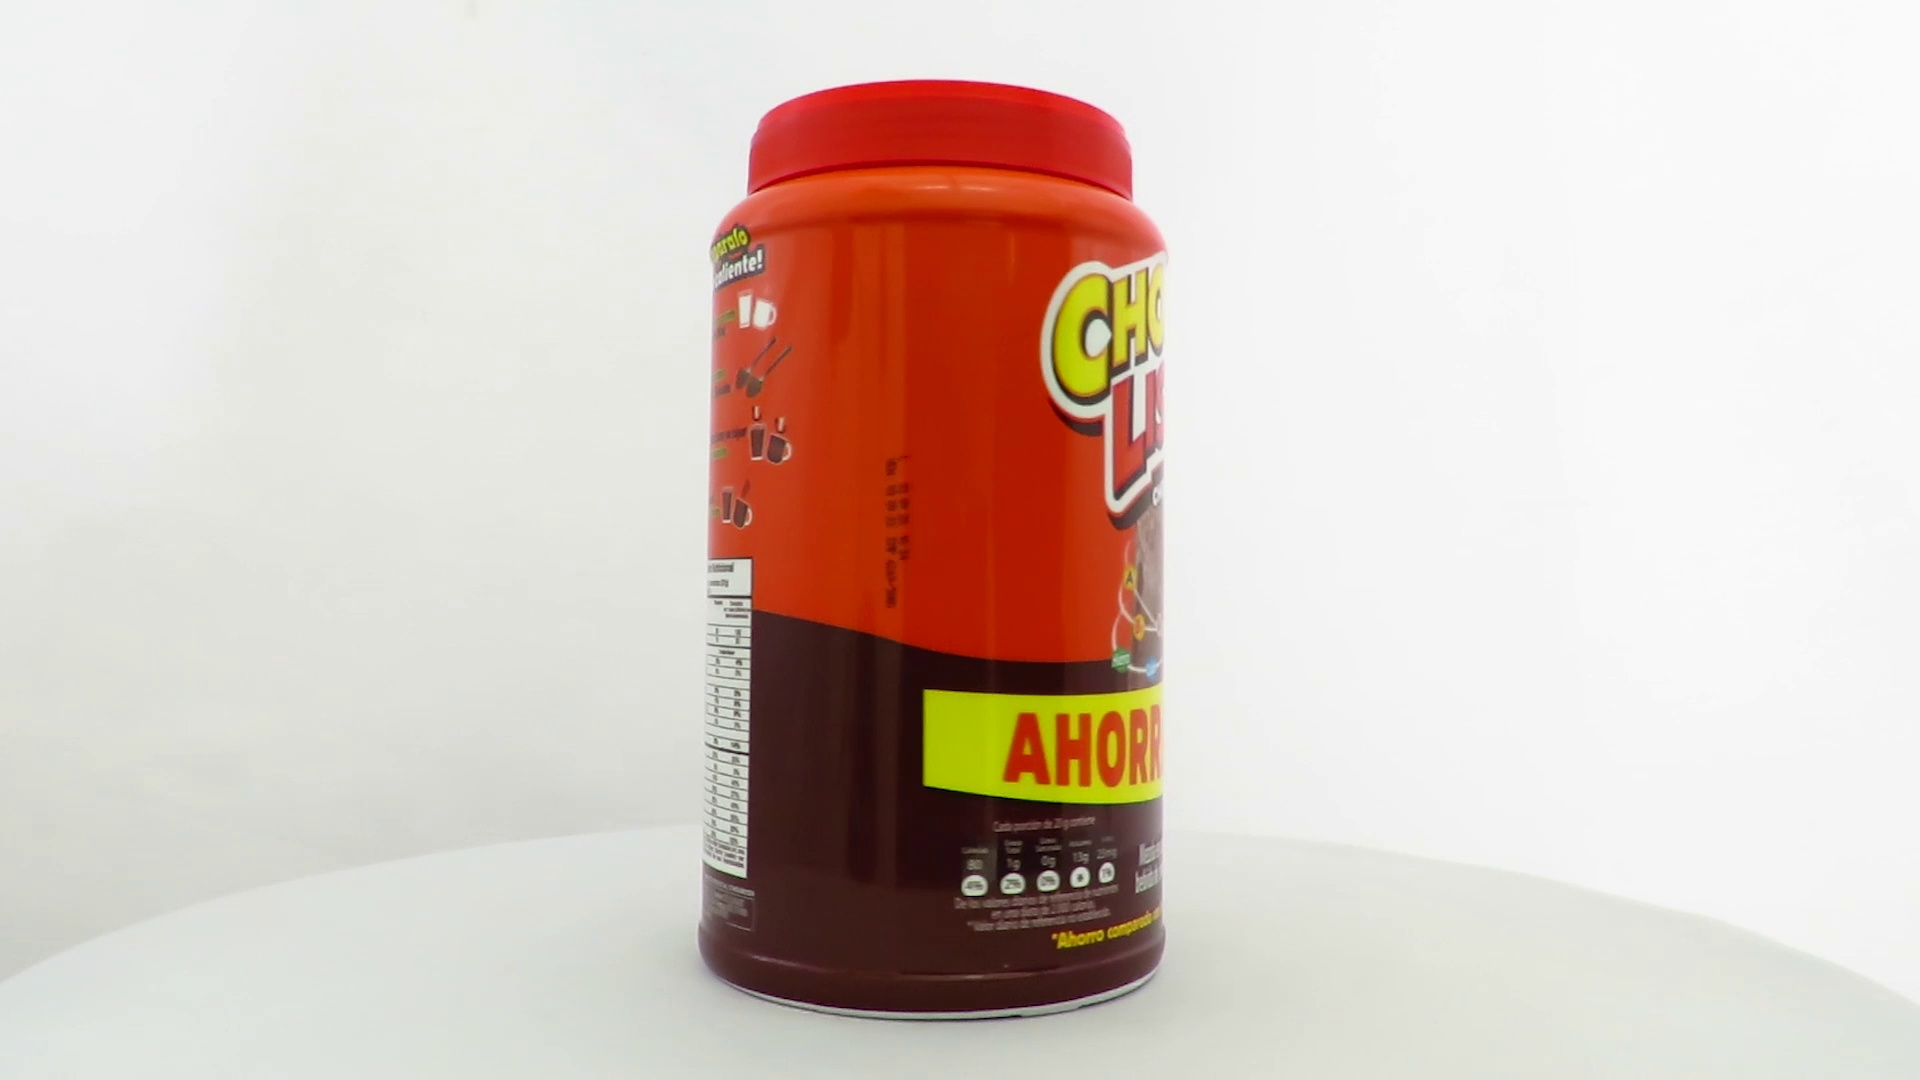COL0170103TRR00100: (525, 74, 1172, 1029)
